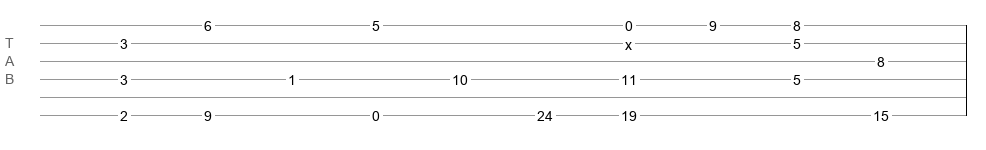0: (372, 108, 380, 118), (625, 18, 633, 28)
1: (288, 72, 296, 82)
10: (452, 72, 468, 82)
11: (621, 72, 637, 82)
15: (873, 108, 889, 118)
19: (621, 108, 637, 118)
2: (120, 108, 128, 118)
24: (537, 108, 553, 118)
3: (120, 72, 128, 82), (120, 36, 128, 46)
5: (372, 18, 380, 28), (793, 72, 801, 82), (793, 36, 801, 46)
6: (204, 18, 212, 28)
8: (793, 18, 801, 28), (877, 54, 885, 64)
9: (204, 108, 212, 118), (709, 18, 717, 28)
x: (625, 37, 632, 45)
